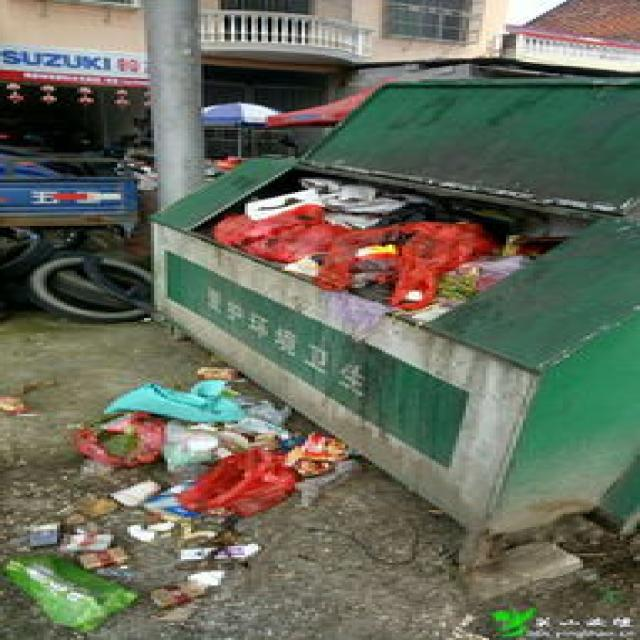garbage: (0, 363, 352, 629)
overflow: (144, 152, 637, 532)
